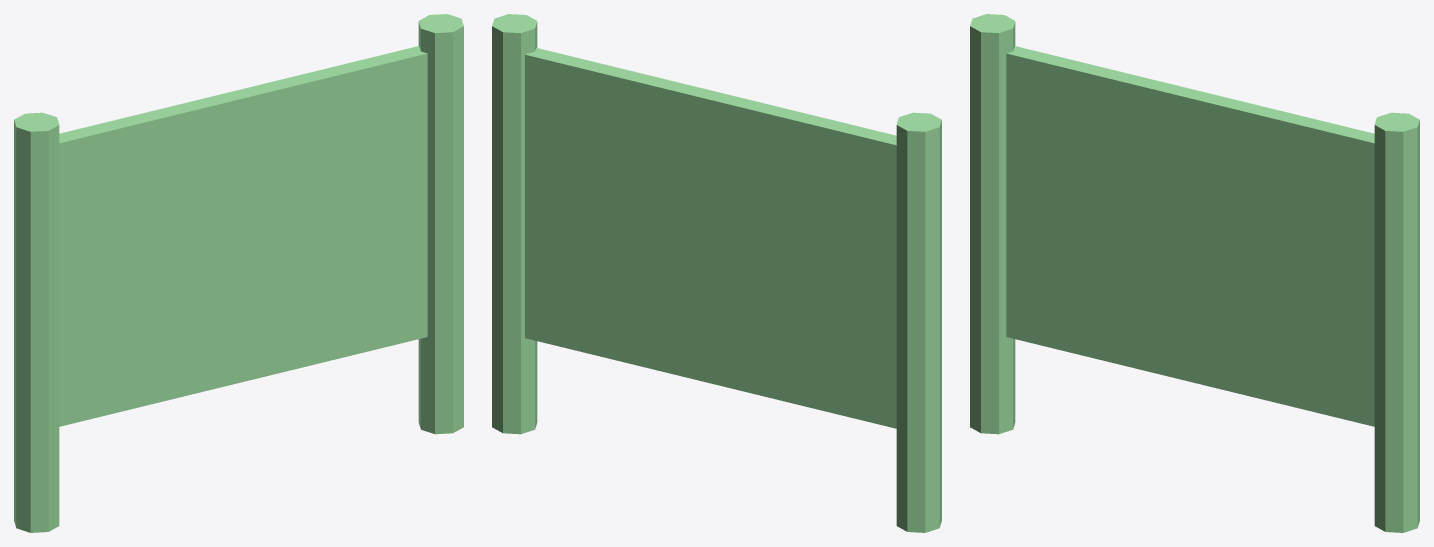
The model's file is Bordmap - Copy.fbx.
The picture shows the model from 3 angles, left to right: view 1: azimuth 30°, elevation 25°; view 2: azimuth 150°, elevation 25°; view 3: azimuth 330°, elevation 25°; orthographic projection.
Parts seen in each view (by area): view 1: bordmap; view 2: bordmap; view 3: bordmap.
Boxes of the visible parts, x1,y1,x2,y2 form: bordmap: (14,14,463,532); bordmap: (492,14,941,532); bordmap: (970,14,1419,532).
Bounding box in the file's own units: 329 × 283 × 30.06.
